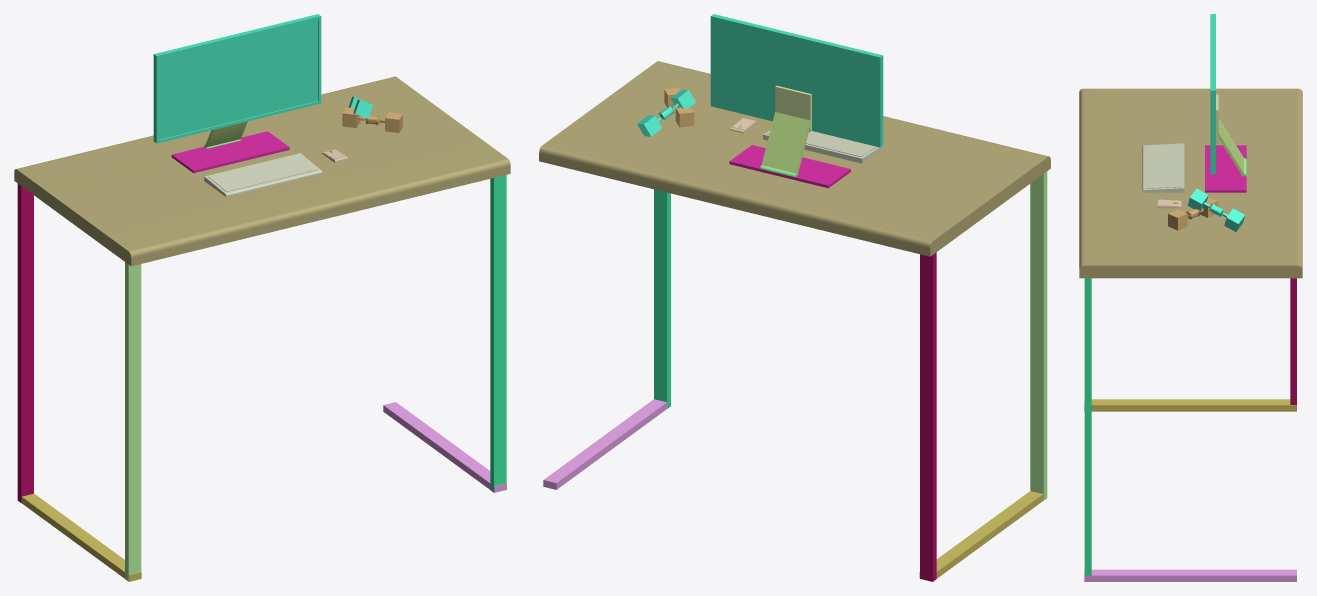
3 views of the same model, side by side, from view 1: azimuth 30°, elevation 25°; view 2: azimuth 150°, elevation 25°; view 3: azimuth 270°, elevation 25° (orthographic). The views are drawn at different scales.
Parts seen in each view (by area): view 1: Object_4, Object_2.010, Object_5.001, Object_5.006, Object_5.015, Object_2.001, Object_2.015, Object_5.009, Object_5.010, Object_3; view 2: Object_4, Object_2.010, Object_5.001, Object_5.015, Object_5.006, Object_5.009, Object_2.002, Object_5.010, Object_2.015, Object_2.001, Object_2, Object_3.004; view 3: Object_4, Object_5.009, Object_5.010, Object_5.006, Object_2.001, Object_2.015, Object_2.010, Object_5.015, Object_3.004, Object_3, Object_2.002.
Boxes of the visible parts, x1,y1,x2,y2 form: Object_4: (14, 76, 510, 266); Object_2.010: (153, 14, 321, 143); Object_5.001: (125, 262, 141, 581); Object_5.006: (490, 175, 506, 492); Object_5.015: (17, 183, 33, 502); Object_2.001: (204, 153, 322, 197); Object_2.015: (171, 131, 289, 173); Object_5.009: (383, 402, 506, 492); Object_5.010: (21, 493, 141, 581); Object_3: (342, 107, 402, 132); Object_4: (539, 61, 1050, 256); Object_2.010: (710, 14, 883, 147); Object_5.001: (1030, 171, 1047, 500); Object_5.015: (920, 252, 936, 581); Object_5.006: (654, 189, 670, 408); Object_5.009: (543, 399, 666, 489); Object_2.002: (761, 112, 810, 176); Object_5.010: (919, 491, 1043, 578); Object_2.015: (729, 145, 850, 188); Object_2.001: (763, 130, 884, 163); Object_2: (775, 85, 811, 131); Object_3.004: (637, 89, 695, 136); Object_4: (1079, 88, 1302, 278); Object_5.009: (1084, 569, 1296, 581); Object_5.010: (1084, 399, 1296, 411); Object_5.006: (1084, 278, 1091, 575); Object_2.001: (1142, 143, 1184, 192); Object_2.015: (1205, 145, 1246, 192); Object_2.010: (1210, 14, 1215, 174); Object_5.015: (1290, 278, 1296, 404); Object_3.004: (1187, 188, 1244, 231); Object_3: (1168, 197, 1217, 230); Object_2.002: (1218, 118, 1243, 174).
Bounding box in the file's own units: 0.8732 × 1 × 0.4657.
